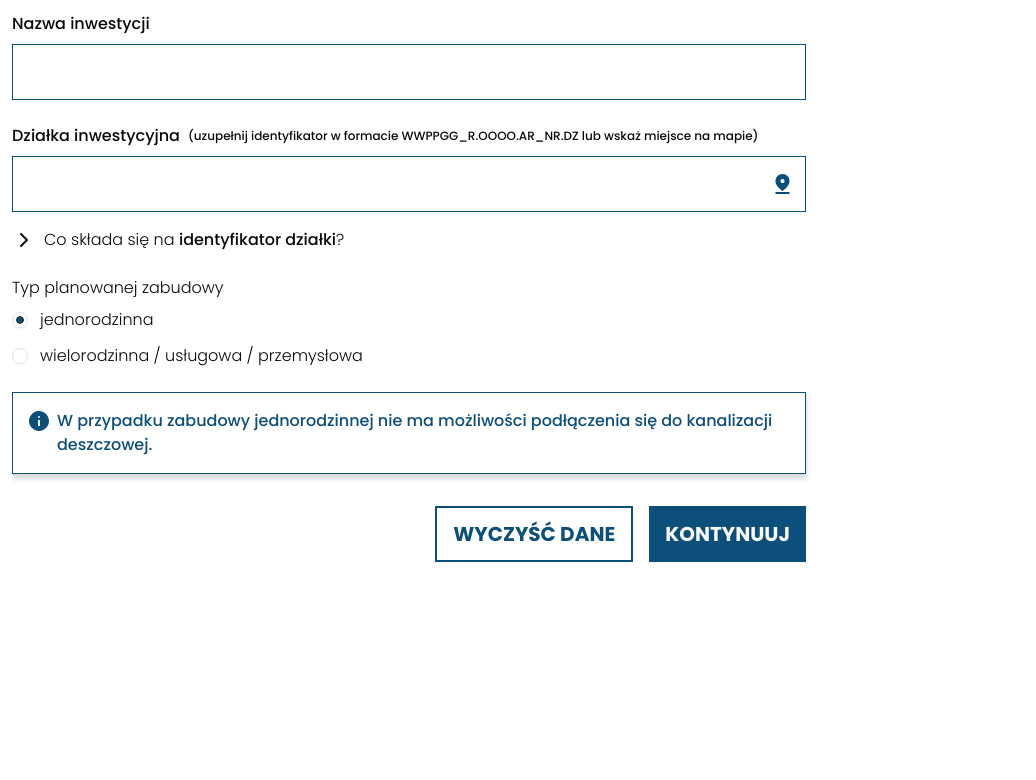
InwestycjaForm component › should allow selecting different typ zabudowy options
Expected: the radio button named "jednorodzinna" next to "jednorodzinna" is checked, [12, 312, 28, 328]
Note: Click wielorodzinna option
Click the radio button named "wielorodzinna / usługowa / przemysłowa" next to "wielorodzinna / usługowa / przemysłowa". click: (20,356)
box: [12, 348, 28, 364]
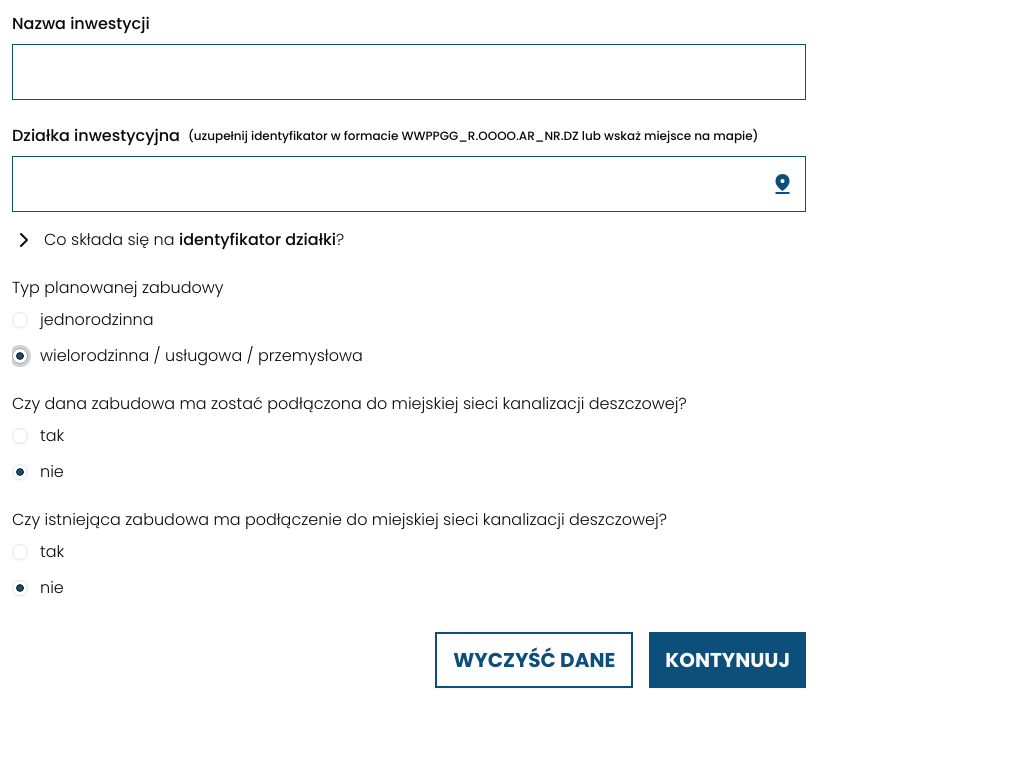
Now the radio button named "wielorodzinna / usługowa / przemysłowa" next to "wielorodzinna / usługowa / przemysłowa" is checked, box [12, 348, 28, 364]
Now the radio button named "jednorodzinna" next to "jednorodzinna" is not checked, box [12, 312, 28, 328]
